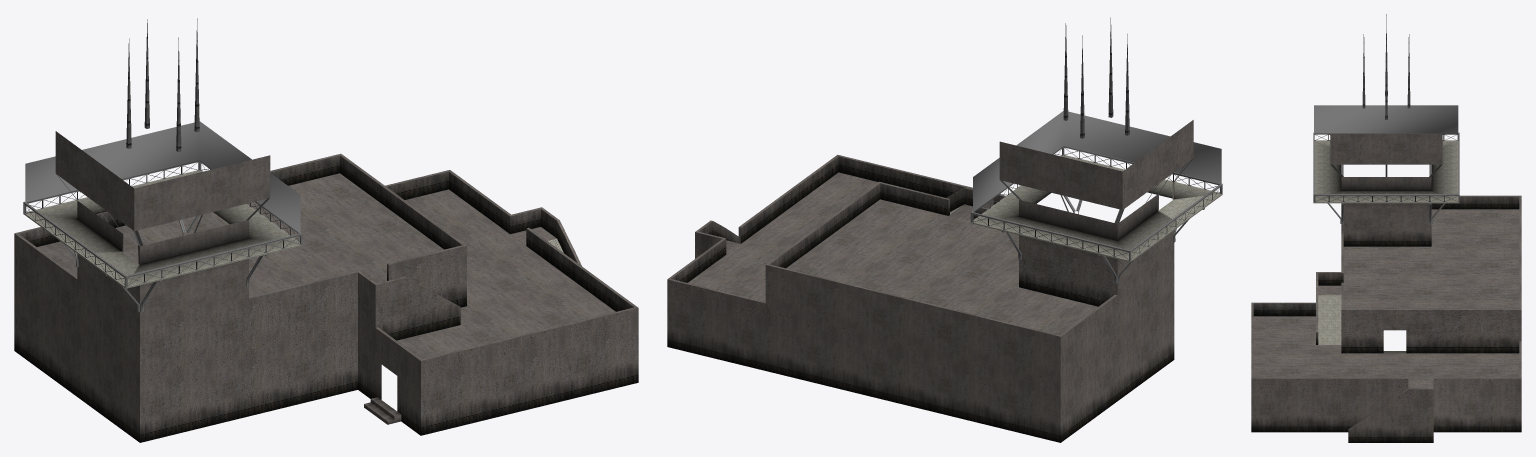
File: M3_ControlTowerExt.glb
3 views of the same model, side by side, from view 1: azimuth 30°, elevation 25°; view 2: azimuth 150°, elevation 25°; view 3: azimuth 270°, elevation 25° (orthographic). The views are drawn at different scales.
Parts seen in each view (by area): view 1: M3_CONTROLTOWEREXT; view 2: M3_CONTROLTOWEREXT; view 3: M3_CONTROLTOWEREXT.
Part boxes in pixels (<box>): M3_CONTROLTOWEREXT: <box>14,18,638,442</box>; M3_CONTROLTOWEREXT: <box>667,17,1222,442</box>; M3_CONTROLTOWEREXT: <box>1251,14,1521,442</box>.
Bounding box in the file's own units: 36.75 × 26.75 × 24.
Materials: 10 (9 with a texture image).
